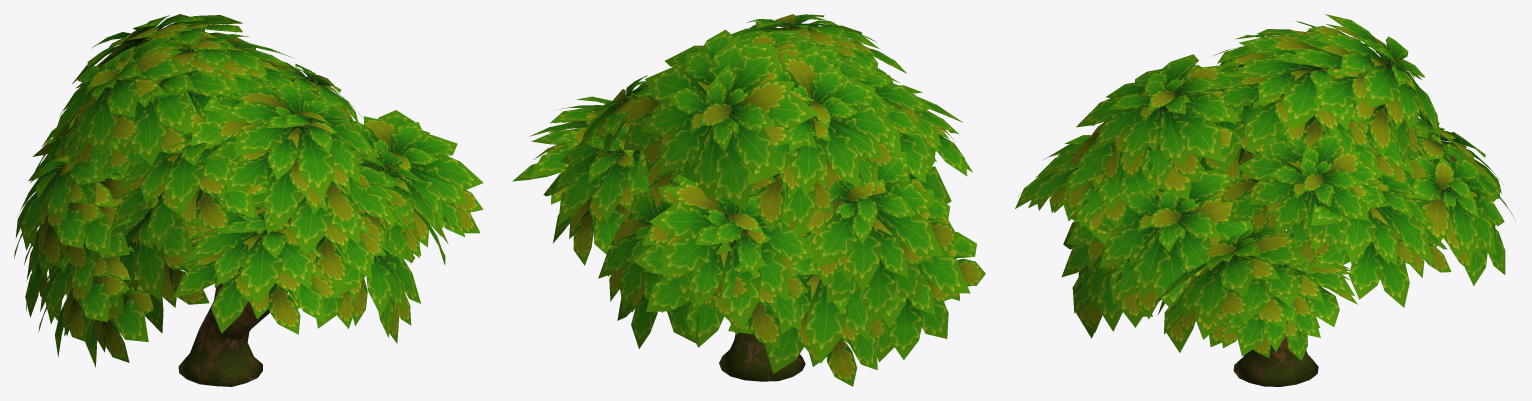
File: camp_tree_oak.gltf
3 views of the same model, side by side, from view 1: azimuth 30°, elevation 25°; view 2: azimuth 150°, elevation 25°; view 3: azimuth 270°, elevation 25° (orthographic). The views are drawn at different scales.
Parts seen in each view (by area): view 1: Canopy, Trunk; view 2: Canopy, Trunk; view 3: Canopy, Trunk.
Part boxes in pixels (x1,y1,x2,y2): Canopy: [14, 14, 483, 367]; Trunk: [178, 212, 368, 386]; Canopy: [512, 14, 985, 386]; Trunk: [719, 229, 805, 381]; Canopy: [1015, 14, 1514, 360]; Trunk: [1233, 156, 1484, 386].
Size of the model in its own units: 39.14 by 30.24 by 41.
2 materials, 2 textured.
